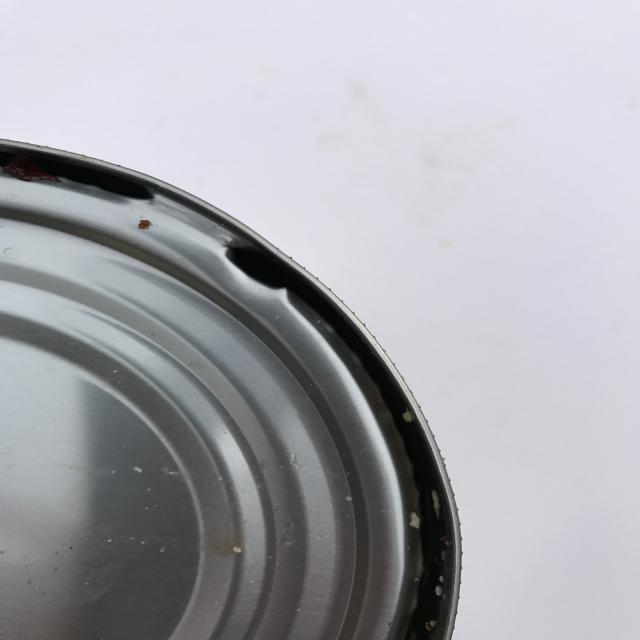metal: (1, 139, 463, 640)
